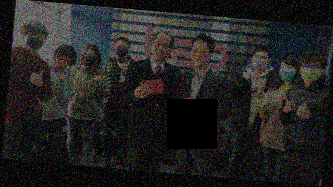with_mask: (298, 61, 321, 82), (23, 29, 43, 51), (277, 62, 295, 82), (251, 52, 267, 70), (81, 50, 97, 67), (53, 53, 69, 69), (114, 43, 127, 58)
without_mask: (187, 45, 209, 66), (151, 38, 170, 58)
